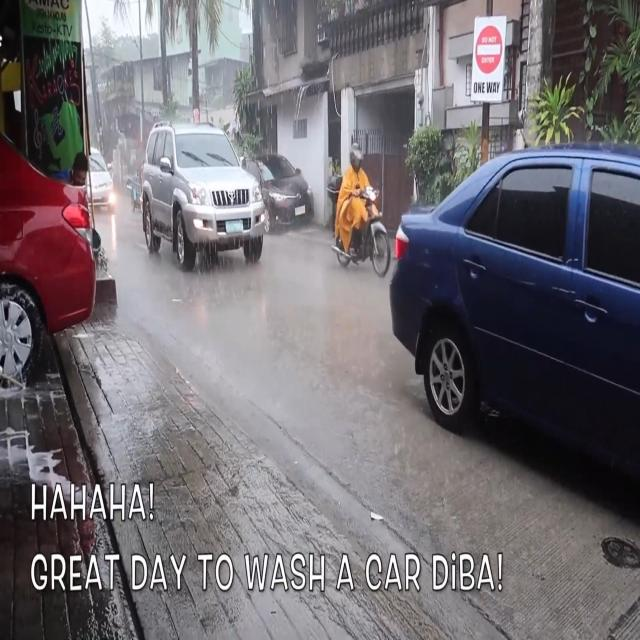half: (349, 140, 364, 172)
